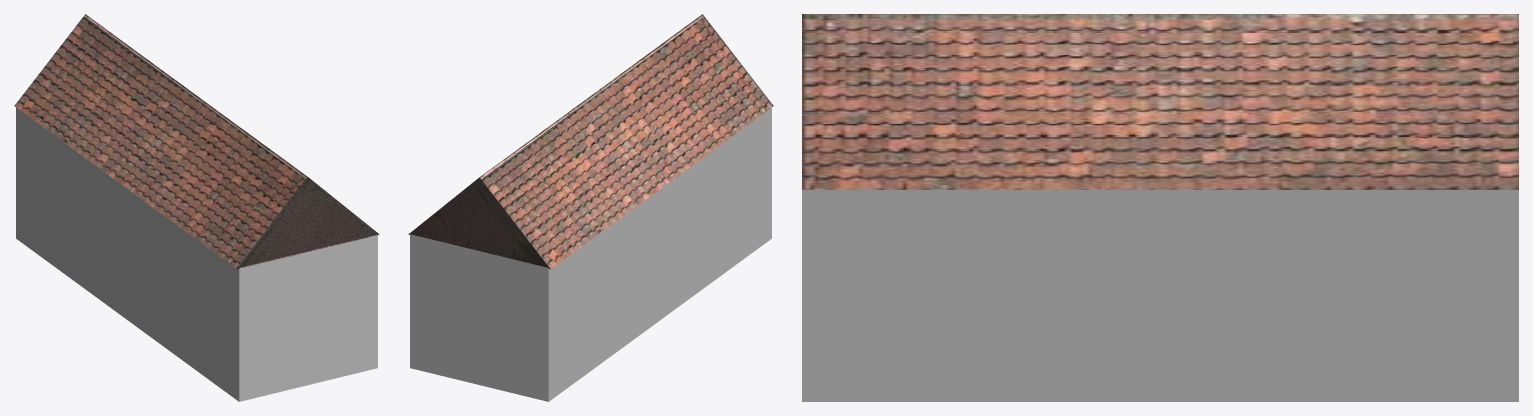
The model's file is town.fbx.
3 renders of one model, left to right at view 1: azimuth 30°, elevation 25°; view 2: azimuth 150°, elevation 25°; view 3: azimuth 270°, elevation 25°, orthographic. The views are drawn at different scales.
Visible parts, largest first — view 1: Cube, Cube.001; view 2: Cube, Cube.001; view 3: Cube, Cube.001.
Boxes of the visible parts, x1,y1,x2,y2 form: Cube: (16, 107, 377, 401); Cube.001: (14, 14, 379, 269); Cube: (410, 107, 771, 401); Cube.001: (408, 14, 773, 269); Cube: (802, 189, 1518, 401); Cube.001: (802, 14, 1518, 189).
Size of the model in its own units: 922 by 1283 by 2498.
2 materials, 1 textured.
